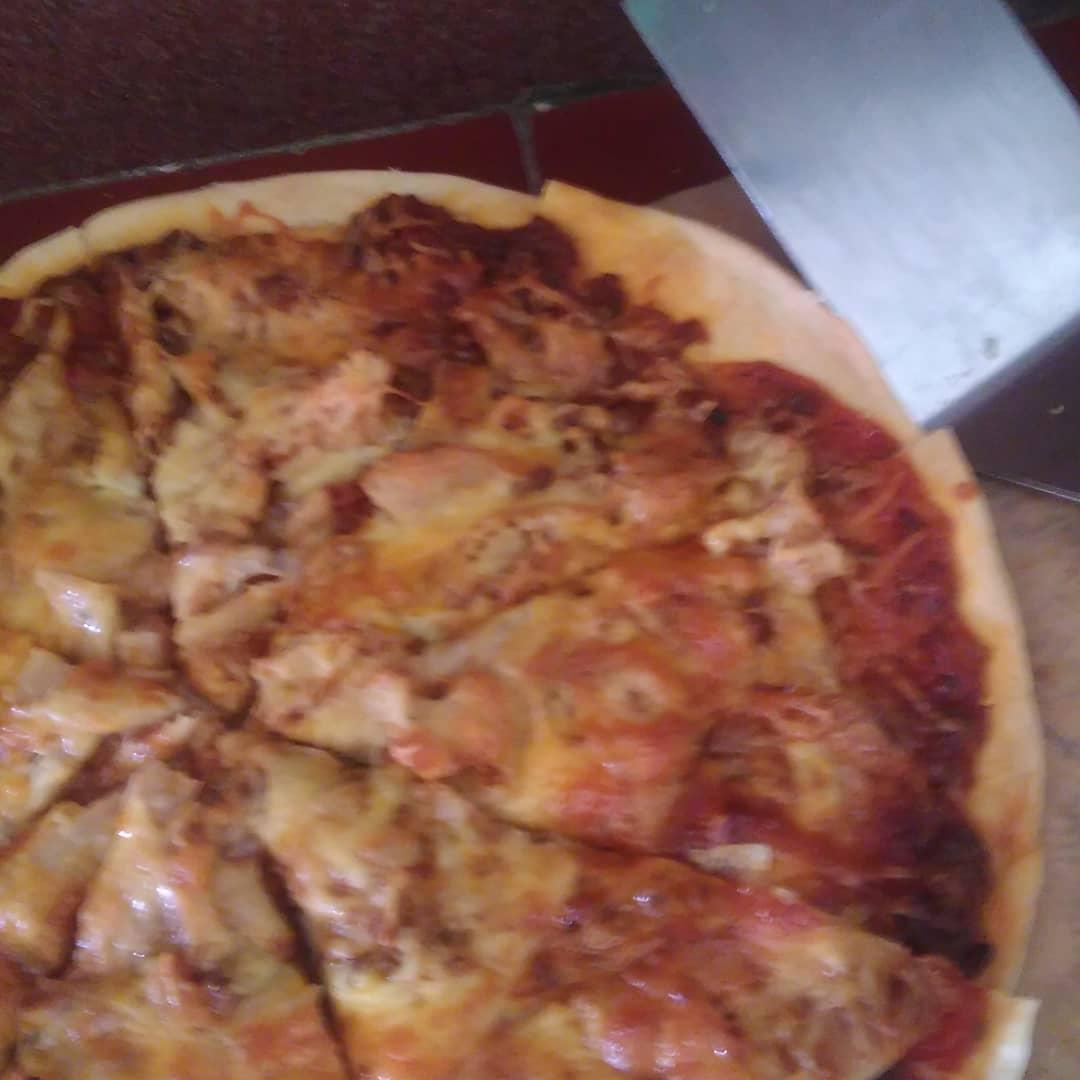Ham: (553, 861, 792, 1063), (99, 531, 282, 656), (631, 541, 757, 684), (147, 829, 250, 996), (469, 285, 622, 397), (373, 669, 513, 786), (749, 681, 917, 778), (563, 649, 681, 768), (617, 407, 720, 537), (357, 451, 525, 516)
Pizza: (5, 169, 1032, 1080)
